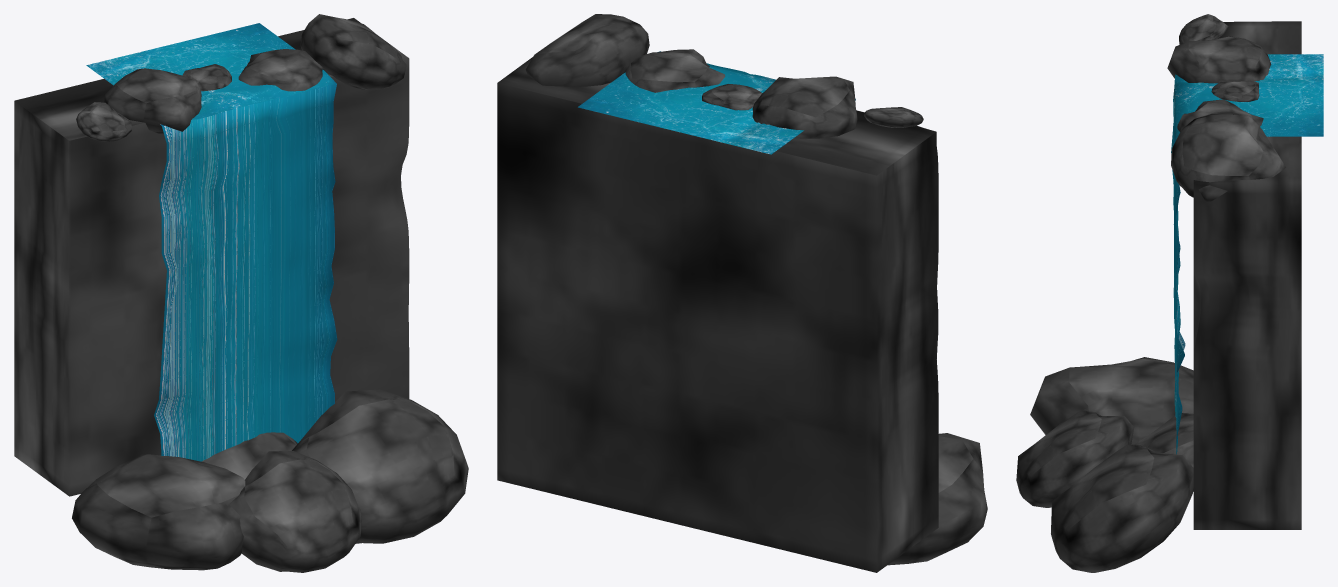
The model's file is waterfall.fbx.
The picture shows the model from 3 angles, left to right: view 1: azimuth 30°, elevation 25°; view 2: azimuth 150°, elevation 25°; view 3: azimuth 270°, elevation 25°; orthographic projection. The views are drawn at different scales.
Parts seen in each view (by area): view 1: Cube, Plane, Cube.009, Cube.006, Cube.008, Cube.005, Cube.001, Cube.002, Cube.007, Cube.004, Cube.003; view 2: Cube, Plane, Cube.005, Cube.006, Cube.001, Cube.002, Cube.003, Cube.004; view 3: Cube, Cube.009, Cube.006, Plane, Cube.005, Cube.008, Cube.001, Cube.007, Cube.004, Cube.002, Cube.003.
Boxes of the visible parts, x1,y1,x2,y2 form: Cube: (14,18,409,496); Plane: (86,23,337,461); Cube.009: (292,389,468,543); Cube.006: (72,454,245,570); Cube.008: (229,451,361,572); Cube.005: (300,14,406,89); Cube.001: (103,68,201,133); Cube.002: (238,49,328,91); Cube.007: (202,432,297,479); Cube.004: (76,102,131,141); Cube.003: (182,64,231,91); Cube: (497,57,938,572); Plane: (578,51,855,154); Cube.005: (525,14,649,86); Cube.006: (888,433,987,565); Cube.001: (752,76,857,138); Cube.002: (624,49,725,92); Cube.003: (702,84,762,110); Cube.004: (864,107,923,127); Cube: (1193,21,1301,529); Cube.009: (1051,444,1193,572); Cube.006: (1030,357,1193,444); Plane: (1171,54,1323,454); Cube.005: (1171,113,1285,202); Cube.008: (1016,411,1134,507); Cube.001: (1167,36,1271,83); Cube.007: (1134,413,1193,491); Cube.004: (1179,14,1228,44); Cube.002: (1177,99,1263,131); Cube.003: (1211,80,1259,101).
Size of the model in its own units: 767 by 923 by 569.
